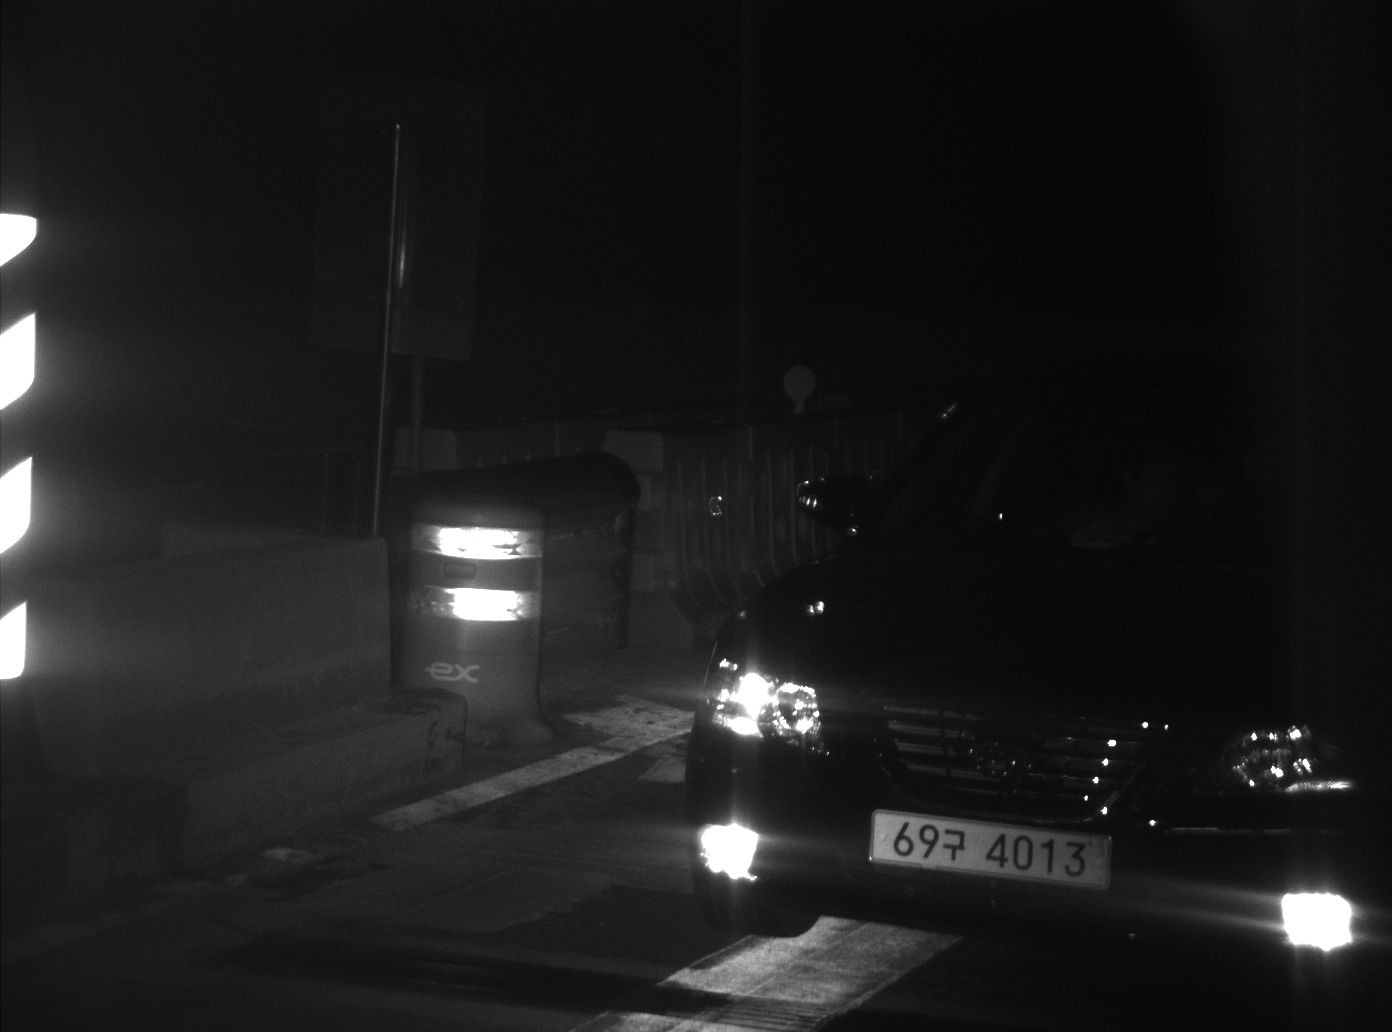car: (683, 353, 1392, 976)
plate: (867, 806, 1114, 891)
